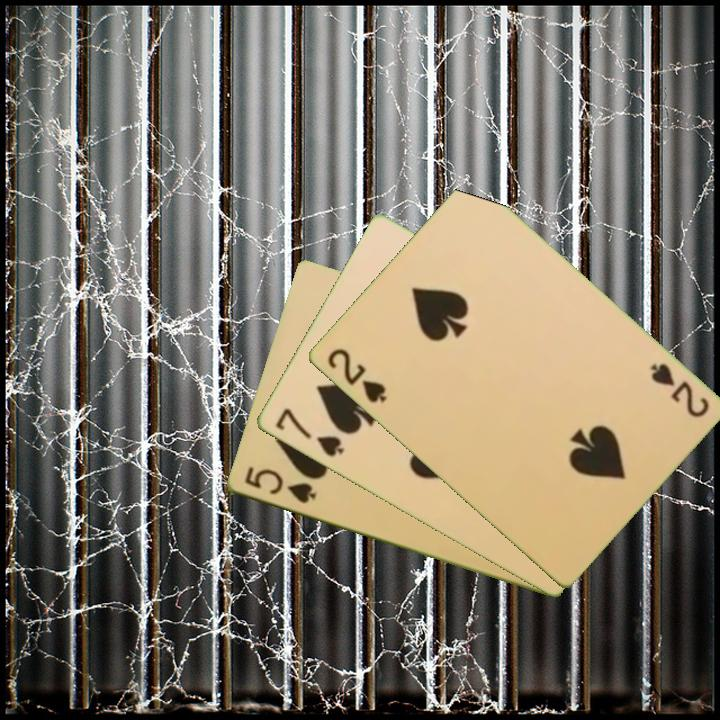2s: (646, 359, 712, 421), (323, 345, 390, 406)
5s: (240, 463, 319, 507)
7s: (271, 404, 346, 460)
